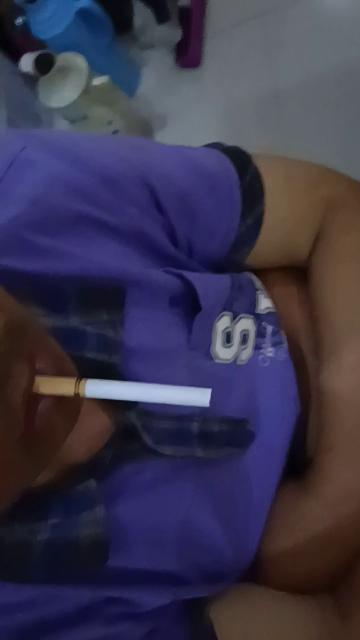Cigarette: (34, 376, 214, 408)
